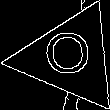O_S: (44, 30, 96, 85)
